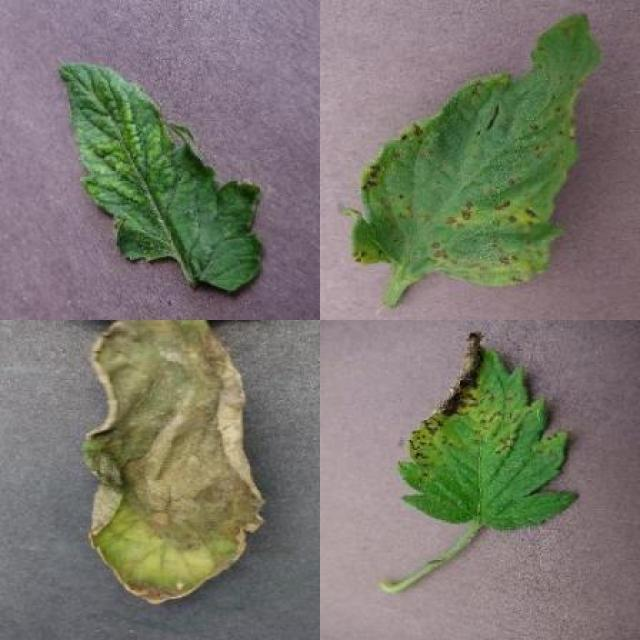Late Blight: (81, 320, 266, 607)
Mosaic Virus: (56, 60, 264, 294)
Septoria: (350, 13, 597, 290), (399, 329, 580, 531)
